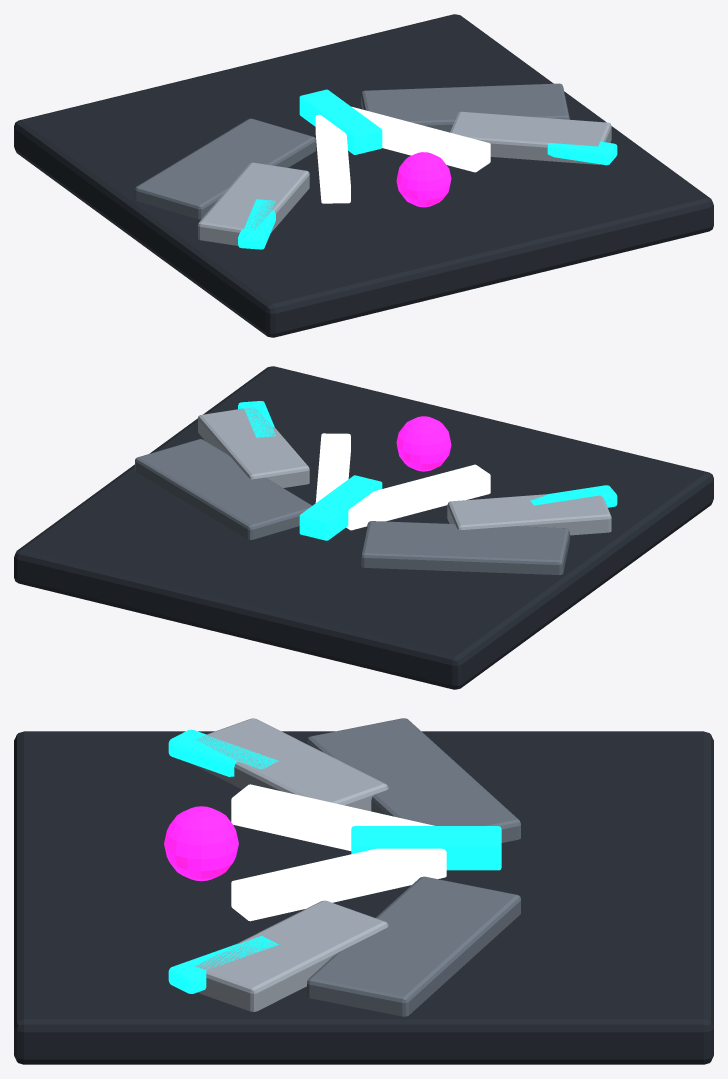
The model's file is resistance_crest_emblem.glb.
3 views of the same model, one above another, from view 1: azimuth 30°, elevation 25°; view 2: azimuth 150°, elevation 25°; view 3: azimuth 270°, elevation 25° (orthographic). The views are drawn at different scales.
Visible parts, largest first — view 1: Shield_Backing, Wing_L1_-0.75, Wing_L1_0.75, Wing_L2_0.75, Wing_L2_-0.75, Core_Chevron_Right, Core_Spine, Core_Chevron_Left, Core_Crystal, FeatherTip_-0.75, FeatherTip_0.75; view 2: Shield_Backing, Wing_L1_-0.75, Wing_L1_0.75, Wing_L2_0.75, Wing_L2_-0.75, Core_Chevron_Left, Core_Spine, Core_Crystal, Core_Chevron_Right, FeatherTip_-0.75, FeatherTip_0.75; view 3: Shield_Backing, Wing_L1_0.75, Wing_L1_-0.75, Wing_L2_0.75, Core_Chevron_Right, Wing_L2_-0.75, Core_Chevron_Left, Core_Spine, Core_Crystal, FeatherTip_-0.75, FeatherTip_0.75.
Part boxes in pixels (left/top/right/bottom): Shield_Backing: left=14, top=14, right=713, bottom=337; Wing_L1_-0.75: left=135, top=118, right=316, bottom=219; Wing_L1_0.75: left=361, top=83, right=569, bottom=132; Wing_L2_0.75: left=450, top=111, right=611, bottom=164; Wing_L2_-0.75: left=198, top=162, right=309, bottom=245; Core_Chevron_Right: left=351, top=106, right=490, bottom=172; Core_Spine: left=299, top=89, right=382, bottom=154; Core_Chevron_Left: left=315, top=114, right=350, bottom=203; Core_Crystal: left=396, top=152, right=451, bottom=207; FeatherTip_-0.75: left=238, top=199, right=275, bottom=249; FeatherTip_0.75: left=547, top=141, right=617, bottom=165; Shield_Backing: left=14, top=366, right=713, bottom=689; Wing_L1_-0.75: left=361, top=521, right=569, bottom=574; Wing_L1_0.75: left=135, top=439, right=311, bottom=539; Wing_L2_0.75: left=198, top=407, right=309, bottom=487; Wing_L2_-0.75: left=447, top=494, right=611, bottom=535; Core_Chevron_Left: left=346, top=464, right=490, bottom=530; Core_Spine: left=299, top=475, right=382, bottom=540; Core_Crystal: left=396, top=416, right=451, bottom=471; Core_Chevron_Right: left=315, top=433, right=350, bottom=502; FeatherTip_-0.75: left=530, top=485, right=617, bottom=507; FeatherTip_0.75: left=238, top=401, right=275, bottom=437; Shield_Backing: left=14, top=731, right=713, bottom=1064; Wing_L1_0.75: left=307, top=876, right=520, bottom=1016; Wing_L1_-0.75: left=307, top=718, right=520, bottom=842; Wing_L2_0.75: left=194, top=900, right=388, bottom=1011; Core_Chevron_Right: left=231, top=848, right=446, bottom=921; Wing_L2_-0.75: left=190, top=718, right=388, bottom=811; Core_Chevron_Left: left=231, top=784, right=434, bottom=850; Core_Spine: left=351, top=826, right=501, bottom=870; Core_Crystal: left=164, top=806, right=238, bottom=881; FeatherTip_-0.75: left=168, top=729, right=278, bottom=776; FeatherTip_0.75: left=168, top=936, right=278, bottom=993.
Bounding box in the file's own units: 2.8 × 0.49 × 2.8.
